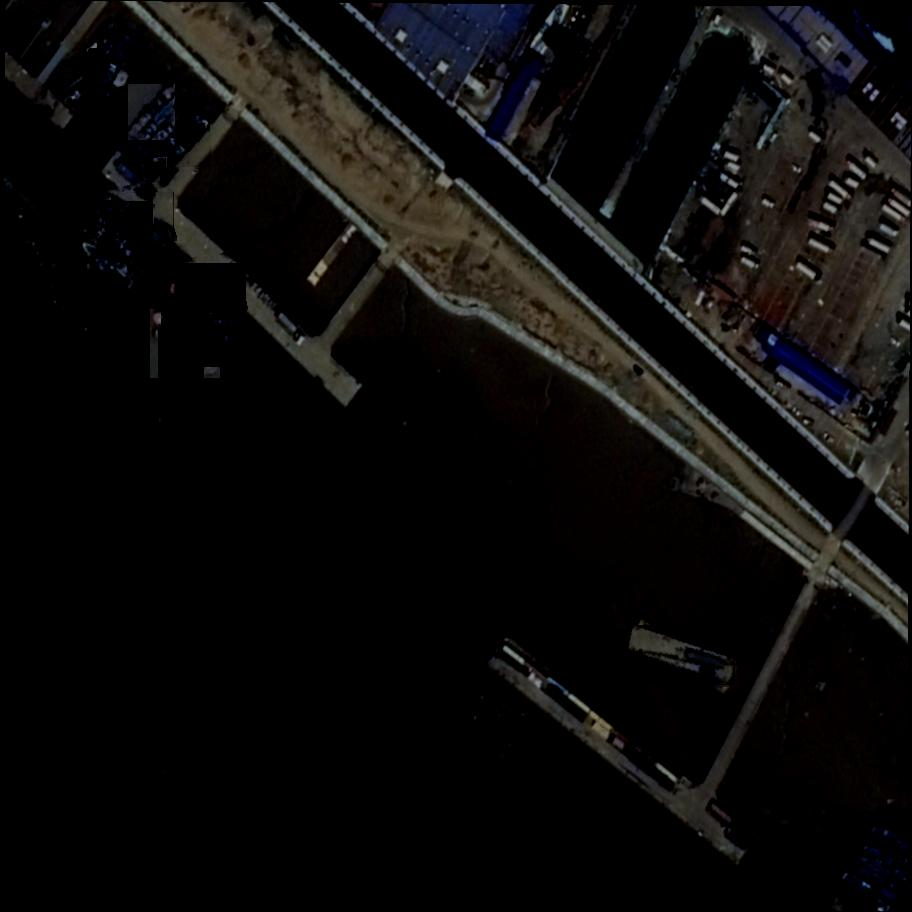ship: (67, 695, 188, 778), (625, 626, 739, 685), (146, 310, 222, 380), (87, 204, 158, 276), (83, 49, 152, 122), (163, 295, 227, 367), (78, 226, 151, 286), (96, 193, 176, 242), (173, 263, 247, 312), (159, 295, 241, 337), (154, 327, 205, 394), (150, 110, 205, 167), (79, 238, 137, 292), (169, 282, 242, 323), (127, 84, 178, 140), (104, 201, 155, 255), (145, 99, 191, 158), (166, 117, 213, 168), (64, 68, 109, 107), (100, 34, 133, 87), (146, 92, 174, 152)
